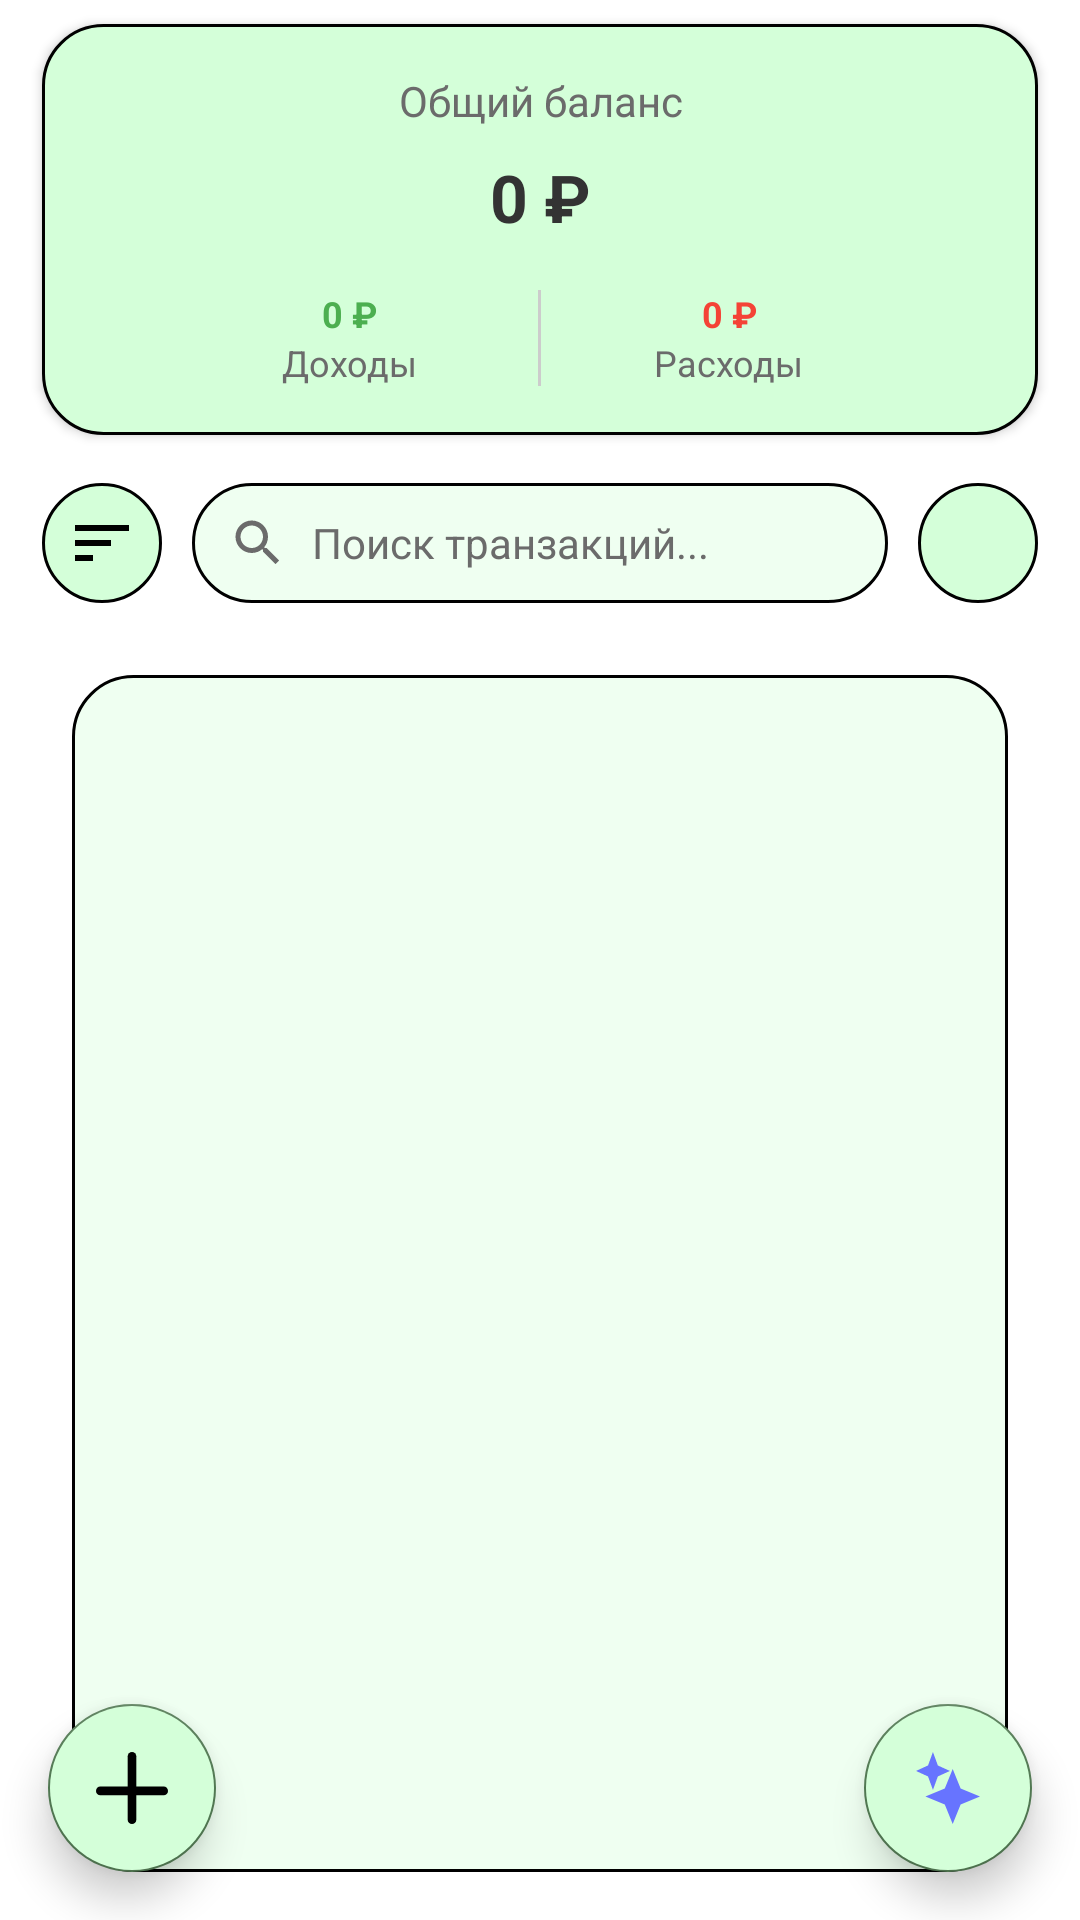

Icon bounding boxes for this 1080px x 1920px phone screenshot, format bbox=[x1, y1, x2, y2]:
Добавить транзакцию: bbox=[48, 1704, 216, 1872]
ИИ-ассистент: bbox=[864, 1704, 1032, 1872]
Сортировка: bbox=[42, 483, 162, 603]
